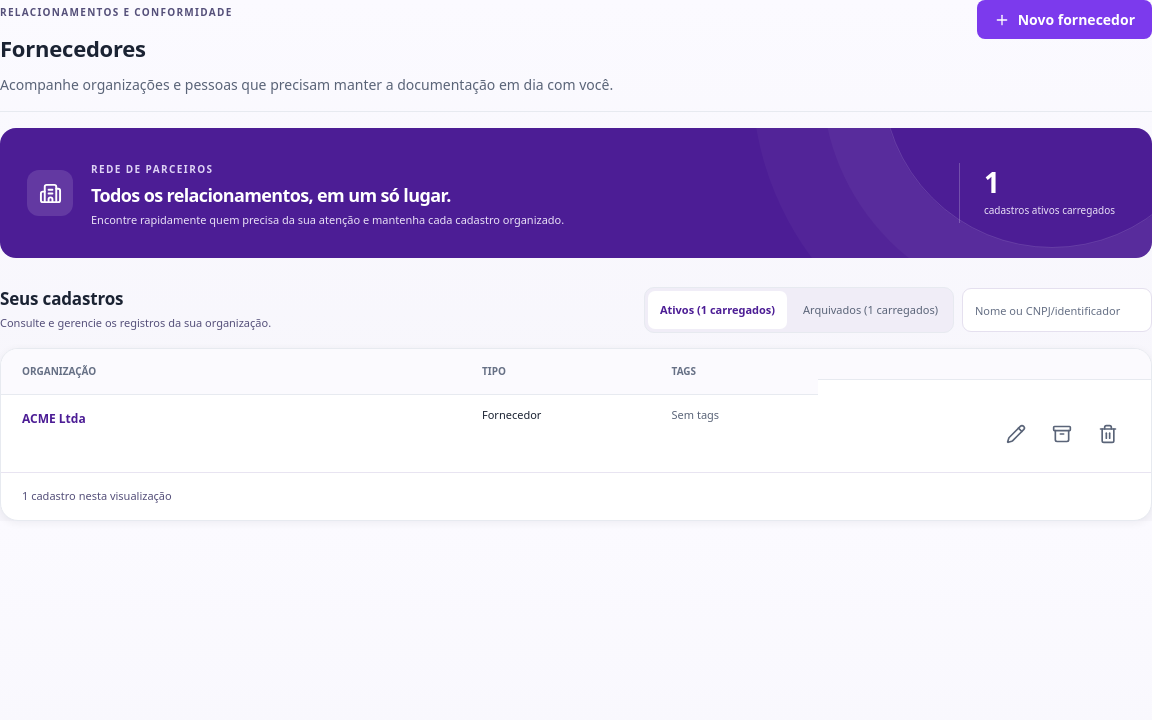
SubjectsCollection › 'Novo fornecedor' opens the create modal (SubjectFormDialog) instead of navigating to a route
The width and height of the screenshot is (1152, 720).
Click the button "Novo fornecedor". click: (1064, 20)
box: [977, 0, 1151, 39]
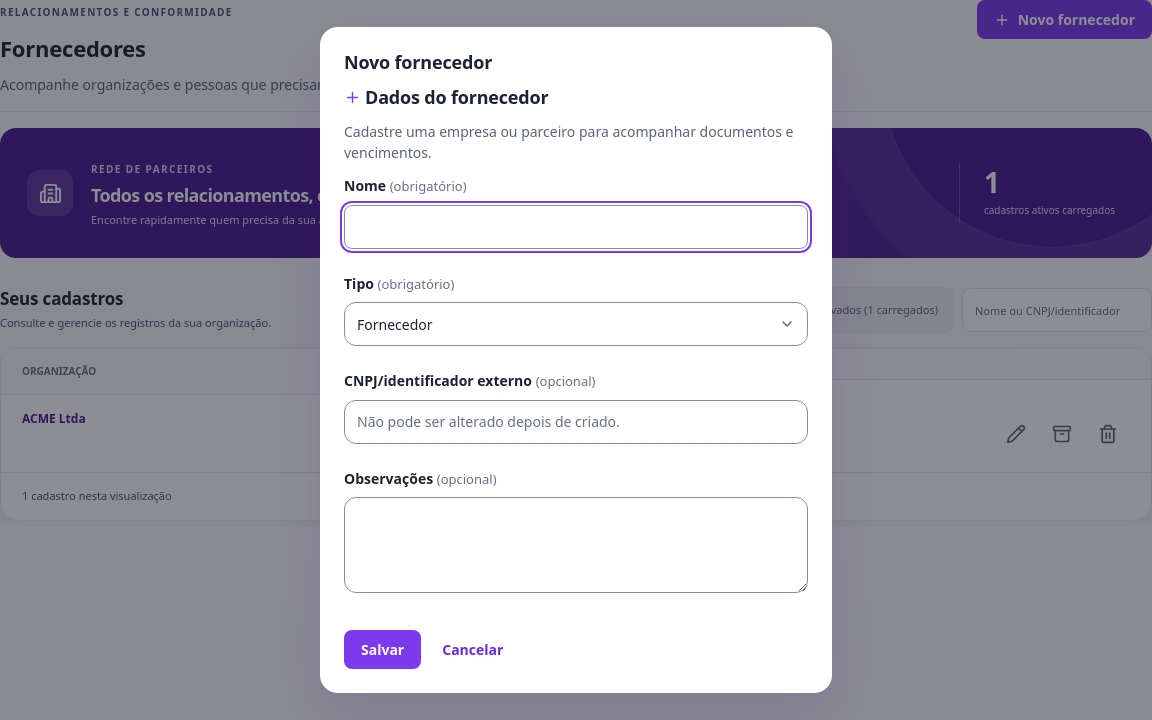
Result: the dialog "Novo fornecedor" is shown at [320, 27, 832, 693]
